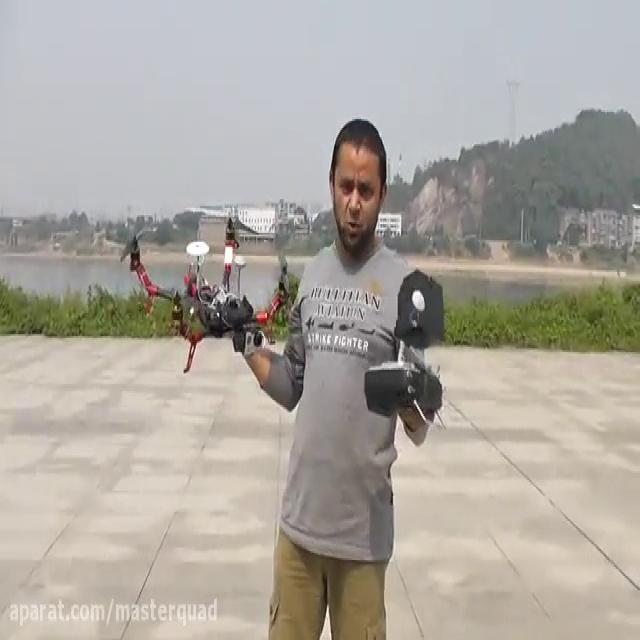drone: (115, 212, 295, 374)
